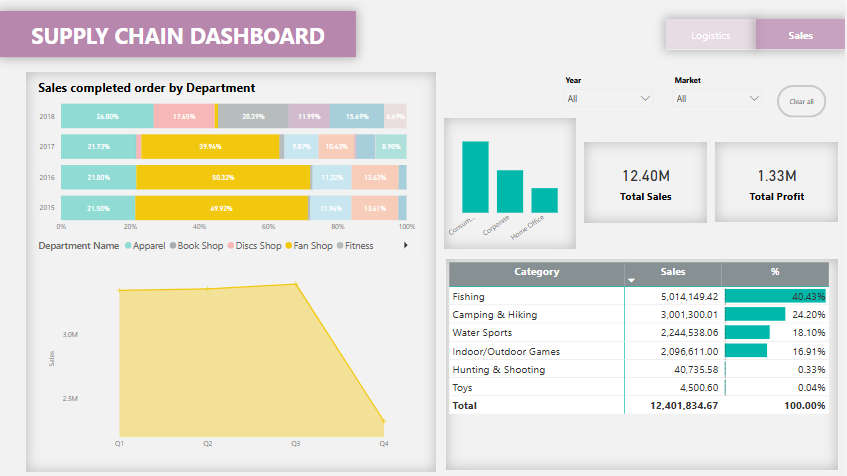

This screenshot's page, from the dashboard's own definition file:
{"tool":"powerbi","page":{"name":"sales","canvas":[1300,750],"ordinal":1},"visuals":[{"type":"shape","title":"Title","box":[0,15.9,547.6,71.4],"z":0},{"type":"actionButton","title":"Logistics","box":[1024.1,27.6,137.9,46.6],"z":0,"group":"g3"},{"type":"card","title":"On time","fields":{"Values":["Measure.profit_sum"]},"box":[1100.2,251.4,190.5,123],"z":0,"group":"g2"},{"type":"group","id":"g1","title":"Active button","box":[988,16,156,48],"z":1000},{"type":"actionButton","title":"Sales","box":[1161.9,27.6,137.9,46.6],"z":1000,"group":"g4"},{"type":"actionButton","title":"Sales","box":[1162,27.6,137.9,46.6],"z":1000,"group":"g3"},{"type":"card","title":"total","fields":{"Values":["Measure.Sales_completed_order"]},"box":[898.6,251.6,190.5,123.8],"z":1000,"group":"g2"},{"type":"group","id":"g2","title":"Group 1","box":[898.6,251.4,391.4,124.3],"z":3000},{"type":"shape","box":[39.7,108.6,631,615.5],"z":4000},{"type":"clusteredColumnChart","fields":{"Category":["DataCo_edited3.Segment"],"Y":["Measure.count_completed"]},"box":[682.8,179.3,203.4,201.7],"z":5000},{"type":"stackedAreaChart","fields":{"Category":["DATE_TABLE.QTR","DATE_TABLE.Month"],"Y":["Measure.Sales_completed_order"],"Series":["DataCo_edited3.Department Name"]},"box":[70.8,416.7,579.2,281.9],"z":6000},{"type":"pivotTable","fields":{"Rows":["DataCo_edited3.Category","DataCo_edited3.Product Name"],"Values":["Measure.Sales_completed_order","Divide(Measure.Sales_completed_order, ScopedEval(Measure.Sales_completed_order, []))"]},"box":[686.2,396.6,603.4,324.1],"z":7000},{"type":"hundredPercentStackedBarChart","title":"Sales completed order by Department","fields":{"Y":["Measure.Sales_completed_order"],"Category":["DATE_TABLE.Year"],"Series":["DataCo_edited3.Department Name"]},"box":[53.4,120.7,589.7,275.9],"z":8000},{"type":"card","fields":{"Values":["Measure.Blank_charts"]},"box":[755.6,503.7,494.4,151.9],"z":9000},{"type":"card","fields":{"Values":["Measure.Blank_charts"]},"box":[113,205.6,498.1,150],"z":10000},{"type":"card","fields":{"Values":["Measure.Blank_charts"]},"box":[70.4,481.5,583.3,174.1],"z":11000},{"type":"group","id":"g3","title":"inactive","box":[1024.1,27.6,275.9,46.6],"z":12000},{"type":"group","id":"g4","title":"active","box":[1024,27.6,275.9,46.6],"z":13000},{"type":"slicer","fields":{"Values":["DATE_TABLE.Year"]},"box":[987.1,164.3,157.1,82.9],"z":14000},{"type":"slicer","fields":{"Values":["DataCo_edited3.Market"]},"box":[1024.3,97.1,158.6,82.9],"z":15000},{"type":"actionButton","box":[1194.8,129.3,75.9,50],"z":16000},{"type":"slicer","fields":{"Values":["DataCo_edited3.purchase country"]},"box":[874.3,97.1,150,61.4],"z":16001}]}

Visuals, with their boxes in screenshot pixels (x1, y1, x2, y2), scaled from the page's 1300x750 canvas onto the 847x476 screenshot:
"Title" shape: x1=0 y1=10 x2=357 y2=55
"Logistics" actionButton: x1=667 y1=18 x2=757 y2=47
"On time" card: x1=717 y1=160 x2=841 y2=238
"Active button" group: x1=644 y1=10 x2=745 y2=41
"Sales" actionButton: x1=757 y1=18 x2=846 y2=47
"Sales" actionButton: x1=757 y1=18 x2=846 y2=47
"total" card: x1=585 y1=160 x2=710 y2=238
"Group 1" group: x1=585 y1=160 x2=840 y2=238
shape: x1=26 y1=69 x2=437 y2=460
clusteredColumnChart - DataCo_edited3.Segment x Measure.count_completed: x1=445 y1=114 x2=577 y2=242
stackedAreaChart - DATE_TABLE.QTR x DATE_TABLE.Month: x1=46 y1=264 x2=424 y2=443
pivotTable - DataCo_edited3.Category x DataCo_edited3.Product Name: x1=447 y1=252 x2=840 y2=457
"Sales completed order by Department" hundredPercentStackedBarChart: x1=35 y1=77 x2=419 y2=252
card - Measure.Blank_charts: x1=492 y1=320 x2=814 y2=416
card - Measure.Blank_charts: x1=74 y1=130 x2=398 y2=226
card - Measure.Blank_charts: x1=46 y1=306 x2=426 y2=416
"inactive" group: x1=667 y1=18 x2=846 y2=47
"active" group: x1=667 y1=18 x2=846 y2=47
slicer - DATE_TABLE.Year: x1=643 y1=104 x2=745 y2=157
slicer - DataCo_edited3.Market: x1=667 y1=62 x2=771 y2=114
actionButton: x1=778 y1=82 x2=828 y2=114
slicer - DataCo_edited3.purchase country: x1=570 y1=62 x2=667 y2=101
